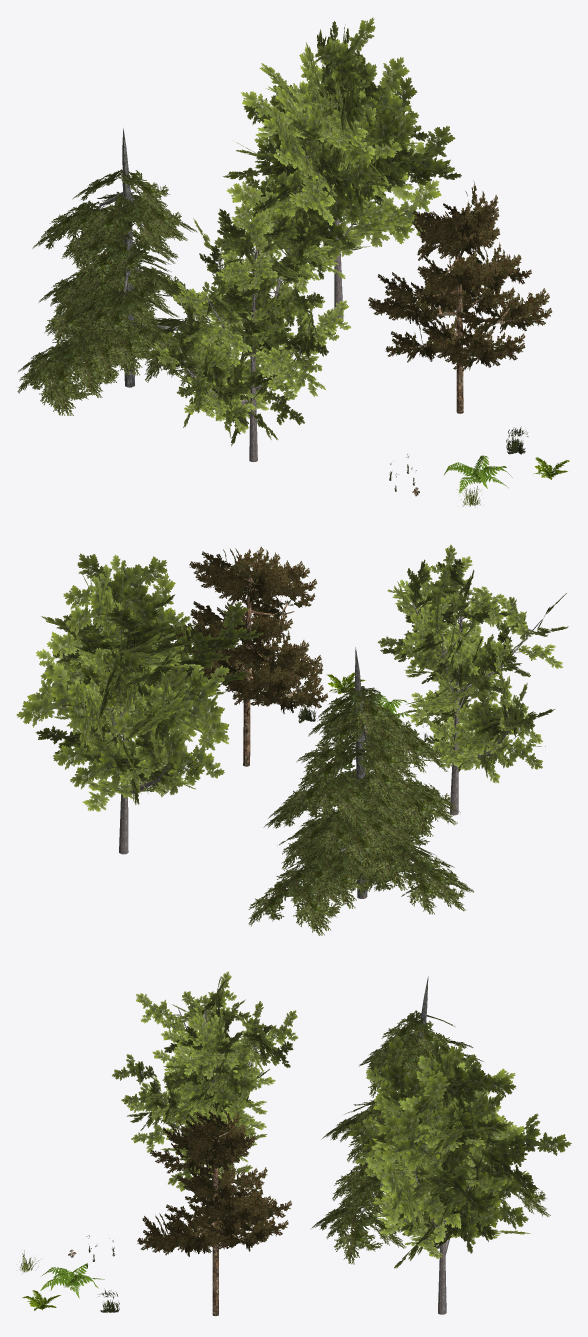
File: vegetation_pack.glb
3 renders of one model, top to bottom at view 1: azimuth 30°, elevation 25°; view 2: azimuth 150°, elevation 25°; view 3: azimuth 270°, elevation 25°, orthographic. The views are drawn at different scales.
Parts seen in each view (by area): view 1: 2_pngaaa.com-3905963.001_0, 1_pngaaa.com-3905963_0, 5_pngaaa.com-2004453_0, 12_pngaaa.com-2004453.001_0, 1_bark-1_0, 5_bark-2_0, 12_bark-4_0, 3_paporotnik_0; view 2: 2_pngaaa.com-3905963.001_0, 5_pngaaa.com-2004453_0, 1_pngaaa.com-3905963_0, 12_pngaaa.com-2004453.001_0, 12_bark-4_0, 1_bark-1_0, 5_bark-2_0, 2_bark-1.001_0; view 3: 2_pngaaa.com-3905963.001_0, 1_pngaaa.com-3905963_0, 12_pngaaa.com-2004453.001_0, 5_pngaaa.com-2004453_0, 12_bark-4_0, 3_paporotnik_0, 2_bark-1.001_0.
Part boxes in pixels (box(x1,y1,x2,y2)): 2_pngaaa.com-3905963.001_0: box(223, 17, 461, 279); 1_pngaaa.com-3905963_0: box(144, 203, 351, 446); 5_pngaaa.com-2004453_0: box(17, 169, 269, 416); 12_pngaaa.com-2004453.001_0: box(368, 180, 552, 371); 1_bark-1_0: box(178, 232, 313, 462); 5_bark-2_0: box(39, 128, 192, 387); 12_bark-4_0: box(405, 206, 514, 413); 3_paporotnik_0: box(444, 455, 512, 493); 2_pngaaa.com-3905963.001_0: box(16, 553, 263, 811); 5_pngaaa.com-2004453_0: box(248, 686, 473, 935); 1_pngaaa.com-3905963_0: box(377, 544, 568, 783); 12_pngaaa.com-2004453.001_0: box(168, 546, 327, 713); 12_bark-4_0: box(224, 566, 299, 766); 1_bark-1_0: box(412, 574, 541, 815); 5_bark-2_0: box(299, 647, 442, 899); 2_bark-1.001_0: box(109, 629, 183, 854); 2_pngaaa.com-3905963.001_0: box(348, 1033, 571, 1268); 1_pngaaa.com-3905963_0: box(112, 971, 298, 1191); 12_pngaaa.com-2004453.001_0: box(137, 1108, 291, 1256); 5_pngaaa.com-2004453_0: box(310, 1010, 550, 1264); 12_bark-4_0: box(182, 1121, 255, 1316); 3_paporotnik_0: box(40, 1263, 104, 1298); 2_bark-1.001_0: box(413, 1146, 487, 1314).
Bounding box in the file's own units: 15.46 × 10.34 × 18.76.
16 materials, 16 textured.
